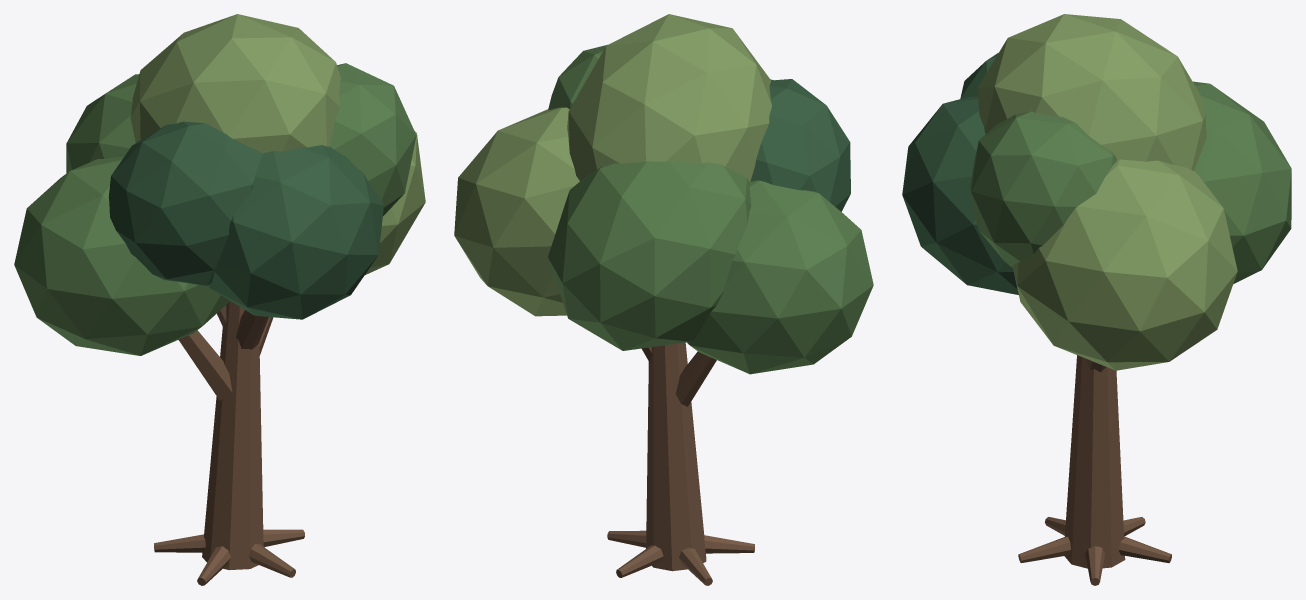
The model's file is tree-canopy.glb.
3 views of the same model, side by side, from view 1: azimuth 30°, elevation 25°; view 2: azimuth 150°, elevation 25°; view 3: azimuth 270°, elevation 25° (orthographic). The views are drawn at different scales.
Parts seen in each view (by area): view 1: tree-canopy-runtime; view 2: tree-canopy-runtime; view 3: tree-canopy-runtime.
Part boxes in pixels (x1,y1,x2,y2): tree-canopy-runtime: (14, 14, 425, 585); tree-canopy-runtime: (454, 14, 873, 585); tree-canopy-runtime: (902, 14, 1291, 585).
Size of the model in its own units: 3.69 by 4.84 by 3.2.
